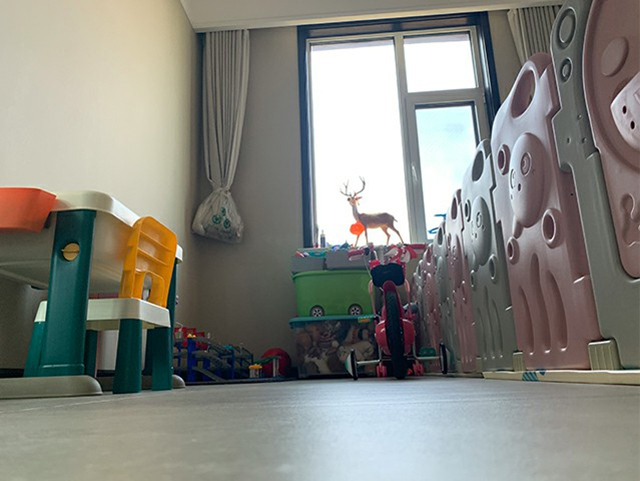stool: (22, 215, 178, 394)
table: (1, 185, 187, 399)
